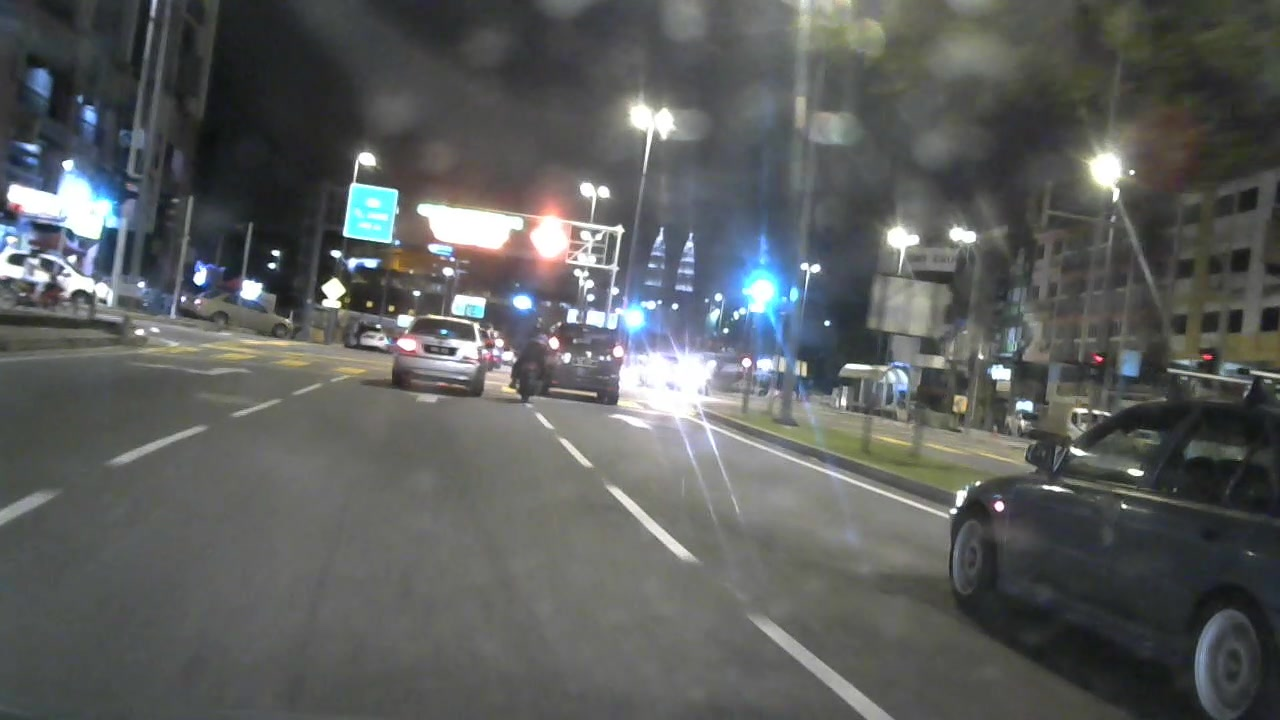Car: (930, 391, 1280, 622), (389, 307, 494, 404), (539, 319, 626, 409), (180, 284, 299, 346)
